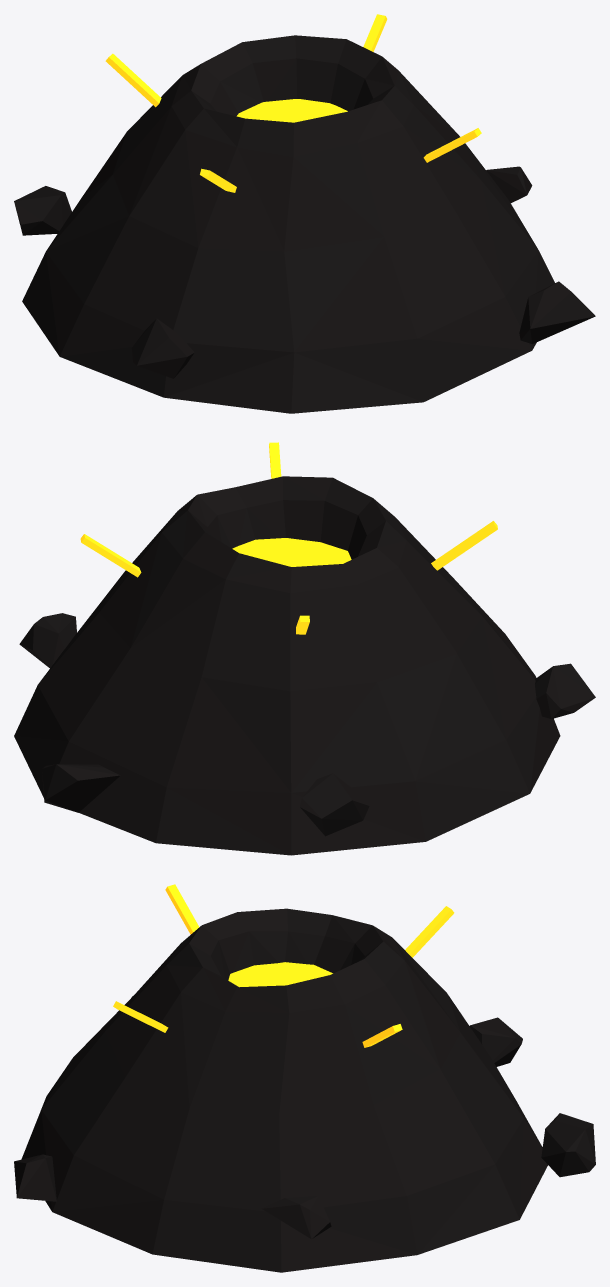
Rendered from fumarola.fbx.
3 views of the same model, one above another, from view 1: azimuth 30°, elevation 25°; view 2: azimuth 150°, elevation 25°; view 3: azimuth 270°, elevation 25° (orthographic). The views are drawn at different scales.
Parts seen in each view (by area): view 1: fumarola; view 2: fumarola; view 3: fumarola.
Part boxes in pixels (x1,y1,x2,y2): fumarola: [14, 14, 595, 413]; fumarola: [14, 442, 595, 855]; fumarola: [14, 884, 595, 1272].
Size of the model in its own units: 7.03 by 3.14 by 7.36.
